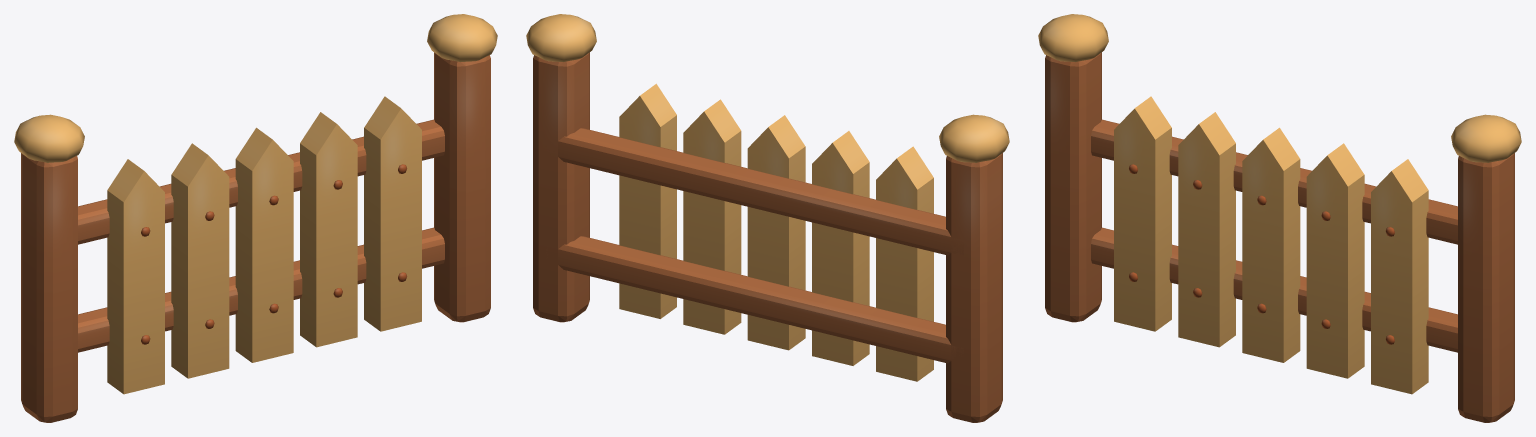
The model's file is WoodenFence.fbx.
3 views of the same model, side by side, from view 1: azimuth 30°, elevation 25°; view 2: azimuth 150°, elevation 25°; view 3: azimuth 330°, elevation 25° (orthographic).
Parts seen in each view (by area): view 1: WoodenFence; view 2: WoodenFence; view 3: WoodenFence.
Boxes of the visible parts, x1,y1,x2,y2 form: WoodenFence: [14, 14, 497, 422]; WoodenFence: [526, 14, 1009, 422]; WoodenFence: [1038, 14, 1521, 422].
Size of the model in its own units: 4.11 by 2.46 by 0.588.
1 material, 1 textured.
